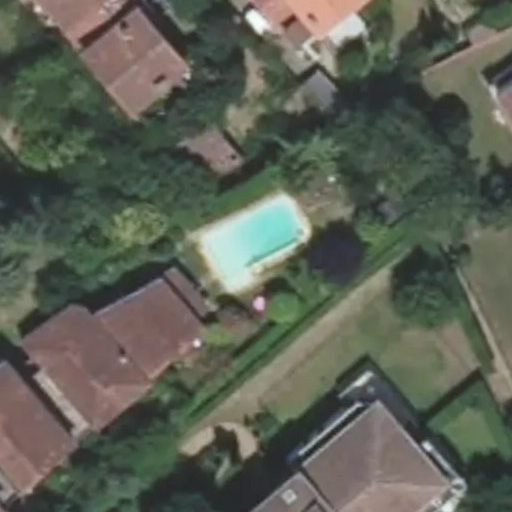pool: (204, 236, 313, 247)
